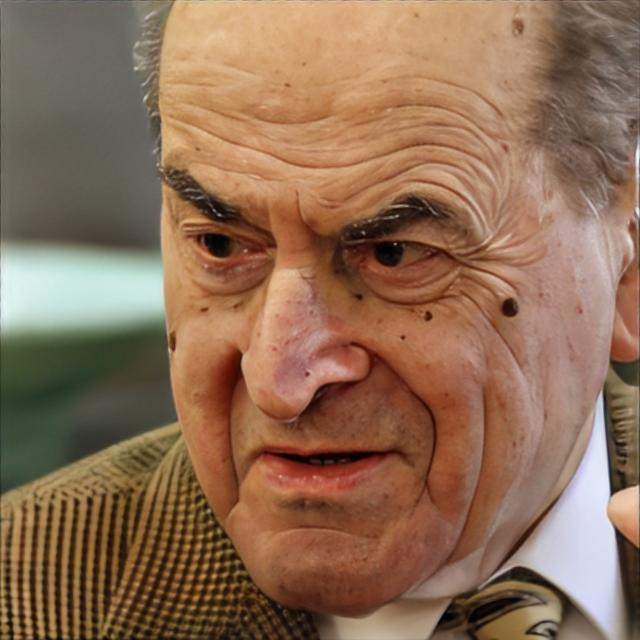anger: (168, 49, 602, 616)
